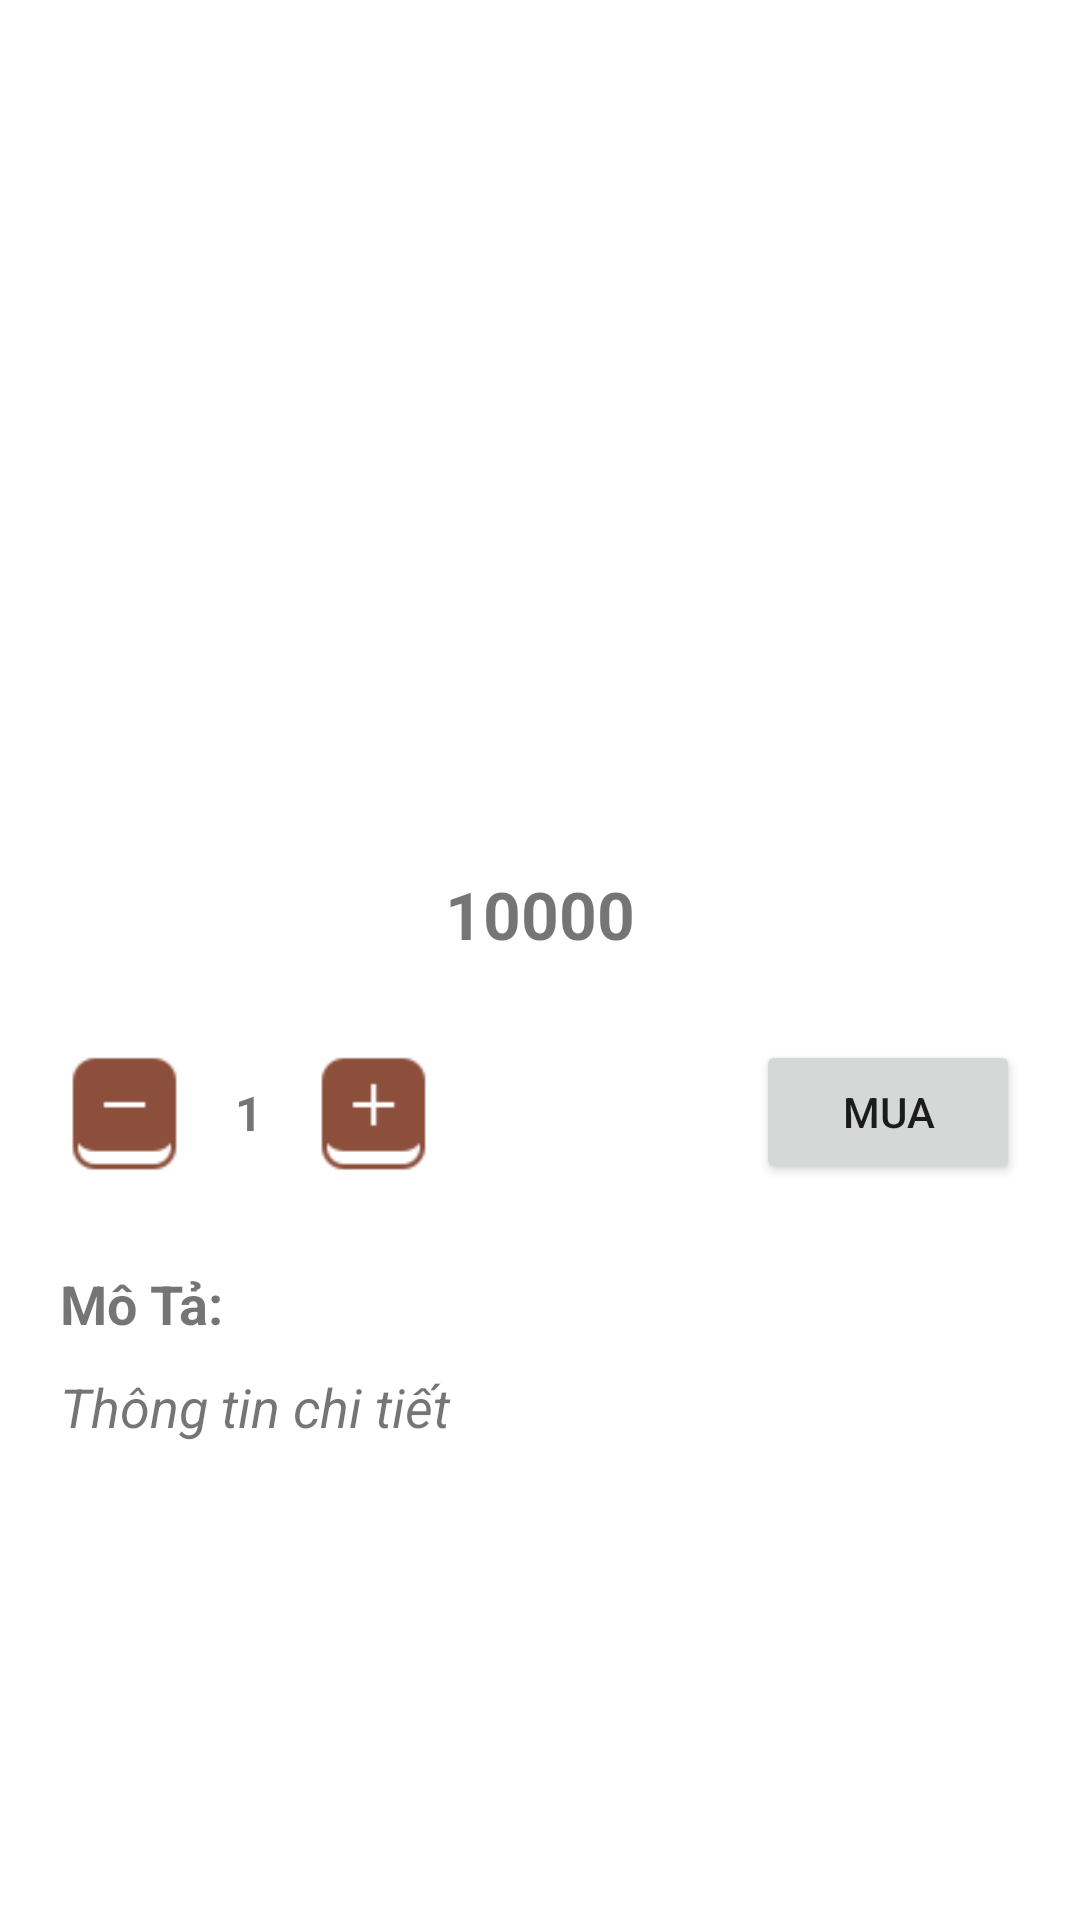

Icon bounding boxes for this 1080 × 1920 phone screenshot, format (x1, y1, x2, y2):
minus: (72, 1057, 177, 1170)
plus: (321, 1057, 426, 1170)
